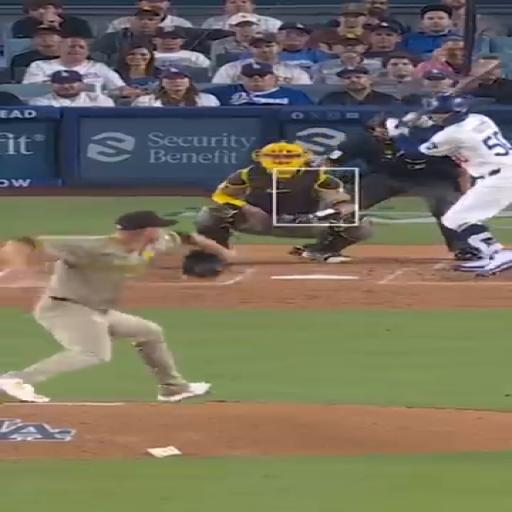bat: (450, 61, 500, 95)
